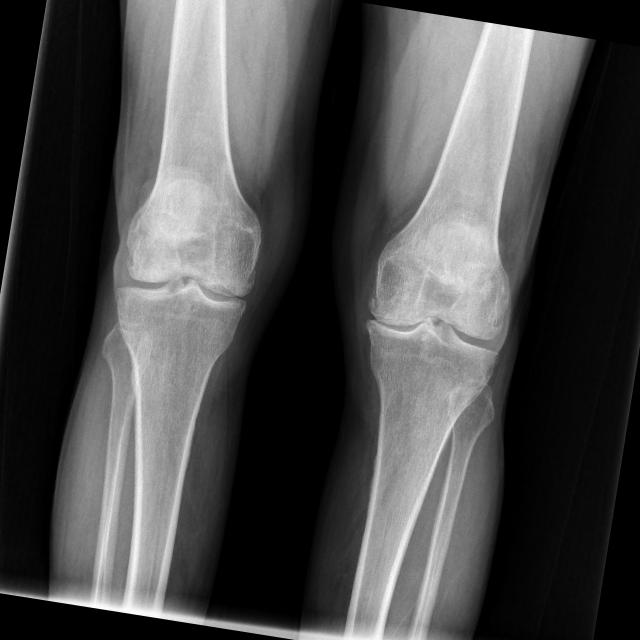Knee: (356, 262, 520, 394), (106, 220, 260, 348)
